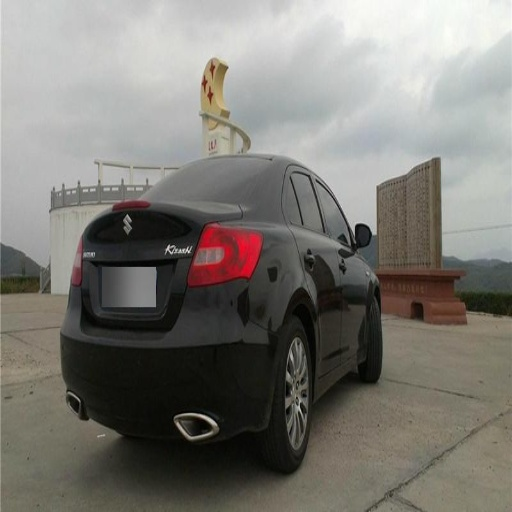back_bumper: (59, 278, 277, 440)
back_right_door: (284, 165, 340, 359)
